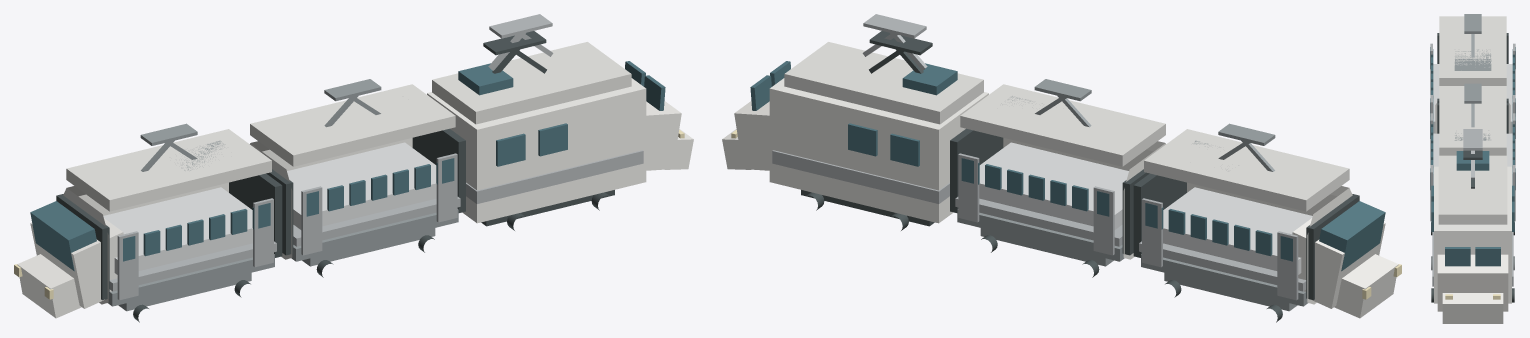
Rendered from ice-s.glb.
3 views of the same model, side by side, from view 1: azimuth 30°, elevation 25°; view 2: azimuth 150°, elevation 25°; view 3: azimuth 270°, elevation 25° (orthographic). The views are drawn at different scales.
Visible parts, largest first — view 1: body_shell, ice-s_car_1_roof, ice-s_car_2_roof, roof, ice-s_car_1_measurement_band, ice-s_car_2_measurement_band, ice-s_car_2_tail_glass, measurement_grey_band, ice-s_car_2_tail_nose_tip, ice-s_car_2_tail_nose_upper, ice-s_car_1_lower_skirt, ice-s_car_2_lower_skirt (+25 smaller); view 2: body_shell, ice-s_car_1_roof, ice-s_car_2_roof, roof, ice-s_car_1_measurement_band, ice-s_car_2_measurement_band, ice-s_car_2_tail_glass, measurement_grey_band, ice-s_car_2_tail_nose_tip, ice-s_car_2_tail_nose_upper, ice-s_car_1_lower_skirt, ice-s_car_2_lower_skirt (+25 smaller); view 3: roof, ice-s_car_2_roof, ice-s_car_1_roof, body_shell, cab_nose_lower, cab_nose_tip, ice-s_car_2_measurement_band, ice-s_car_2_sensor_rack, front_glass_left, front_glass_right, ice-s_car_1_measurement_band, roof_sensor_rack (+16 smaller).
Part boxes in pixels (x1,y1,x2,y2): body_shell: (427, 78, 646, 223); ice-s_car_1_roof: (250, 84, 455, 166); ice-s_car_2_roof: (66, 129, 271, 211); roof: (432, 42, 631, 124); ice-s_car_1_measurement_band: (287, 142, 436, 229); ice-s_car_2_measurement_band: (103, 187, 252, 274); ice-s_car_2_tail_glass: (30, 201, 96, 271); measurement_grey_band: (466, 150, 643, 203); ice-s_car_2_tail_nose_tip: (17, 254, 81, 318); ice-s_car_2_tail_nose_upper: (30, 218, 123, 308); ice-s_car_1_lower_skirt: (291, 209, 458, 261); ice-s_car_2_lower_skirt: (108, 254, 274, 306); body_shell: (769, 78, 988, 223); ice-s_car_1_roof: (960, 84, 1165, 166); ice-s_car_2_roof: (1144, 129, 1349, 211); roof: (784, 42, 983, 124); ice-s_car_1_measurement_band: (979, 142, 1128, 229); ice-s_car_2_measurement_band: (1163, 187, 1312, 274); ice-s_car_2_tail_glass: (1319, 201, 1385, 271); measurement_grey_band: (772, 150, 949, 203); ice-s_car_2_tail_nose_tip: (1334, 254, 1398, 318); ice-s_car_2_tail_nose_upper: (1292, 218, 1385, 308); ice-s_car_1_lower_skirt: (957, 209, 1124, 261); ice-s_car_2_lower_skirt: (1141, 254, 1307, 306); roof: (1438, 155, 1507, 224); ice-s_car_2_roof: (1439, 16, 1506, 85); ice-s_car_1_roof: (1439, 86, 1506, 155); body_shell: (1434, 166, 1511, 303); cab_nose_lower: (1437, 254, 1508, 311); cab_nose_tip: (1442, 293, 1503, 323); ice-s_car_2_measurement_band: (1433, 64, 1512, 133); ice-s_car_2_sensor_rack: (1454, 49, 1491, 70); front_glass_left: (1475, 247, 1500, 266); front_glass_right: (1445, 247, 1470, 266); ice-s_car_1_measurement_band: (1433, 133, 1512, 185); roof_sensor_rack: (1456, 151, 1489, 170).
Bounding box in the file's own units: 5.32 × 1.44 × 0.791.
